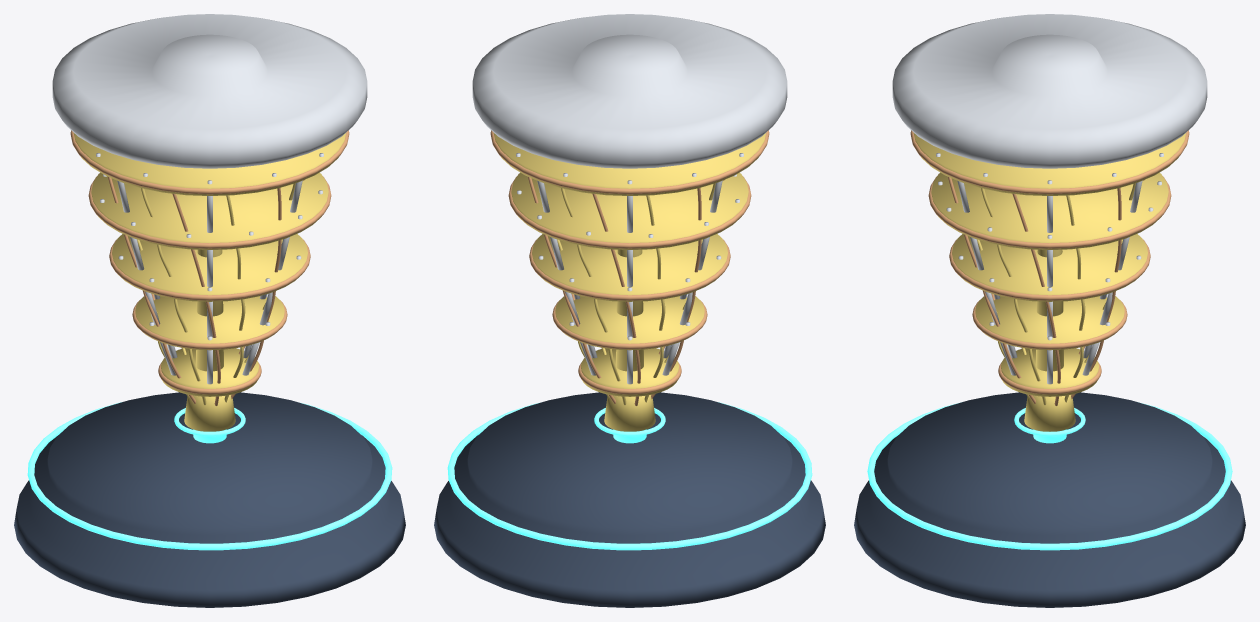
File: quantum_chandelier.glb
The picture shows the model from 3 angles, left to right: view 1: azimuth 30°, elevation 25°; view 2: azimuth 150°, elevation 25°; view 3: azimuth 270°, elevation 25°; orthographic projection.
Parts seen in each view (by area): view 1: QuantumBase, TopCrown, StagePlate_1, StagePlate_2, StagePlate_0, StagePlate_3, BaseGlowRing, StagePlate_4, StageRim_0, StageRim_1, QpuCanister, StageRim_2 (+8 smaller); view 2: QuantumBase, TopCrown, StagePlate_1, StagePlate_2, StagePlate_0, StagePlate_3, BaseGlowRing, StagePlate_4, StageRim_0, StageRim_1, QpuCanister, StageRim_2 (+8 smaller); view 3: QuantumBase, TopCrown, StagePlate_1, StagePlate_2, StagePlate_0, StagePlate_3, BaseGlowRing, StagePlate_4, StageRim_0, StageRim_1, QpuCanister, StageRim_2 (+8 smaller).
Part boxes in pixels (<box>): QuantumBase: <box>14,392,405,607</box>; TopCrown: <box>52,14,367,168</box>; StagePlate_1: <box>91,172,328,249</box>; StagePlate_2: <box>112,234,307,301</box>; StagePlate_0: <box>73,133,346,195</box>; StagePlate_3: <box>135,296,284,350</box>; BaseGlowRing: <box>27,402,392,550</box>; StagePlate_4: <box>161,348,258,396</box>; StageRim_0: <box>70,130,349,194</box>; StageRim_1: <box>88,176,331,248</box>; QpuCanister: <box>184,395,235,431</box>; StageRim_2: <box>109,239,310,300</box>; QuantumBase: <box>434,392,825,607</box>; TopCrown: <box>472,14,787,168</box>; StagePlate_1: <box>511,172,748,249</box>; StagePlate_2: <box>532,234,727,301</box>; StagePlate_0: <box>493,133,766,195</box>; StagePlate_3: <box>555,296,704,350</box>; BaseGlowRing: <box>447,402,812,550</box>; StagePlate_4: <box>581,348,678,396</box>; StageRim_0: <box>490,130,769,194</box>; StageRim_1: <box>508,176,751,248</box>; QpuCanister: <box>604,395,655,431</box>; StageRim_2: <box>529,239,730,300</box>; QuantumBase: <box>854,392,1245,607</box>; TopCrown: <box>892,14,1207,168</box>; StagePlate_1: <box>931,172,1168,249</box>; StagePlate_2: <box>952,234,1147,301</box>; StagePlate_0: <box>913,133,1186,195</box>; StagePlate_3: <box>975,296,1124,350</box>; BaseGlowRing: <box>867,403,1232,550</box>; StagePlate_4: <box>1001,348,1098,396</box>; StageRim_0: <box>910,130,1189,194</box>; StageRim_1: <box>928,176,1171,248</box>; QpuCanister: <box>1024,395,1075,431</box>; StageRim_2: <box>949,239,1150,300</box>.
Size of the model in its own units: 3.04 by 4.02 by 3.04.
